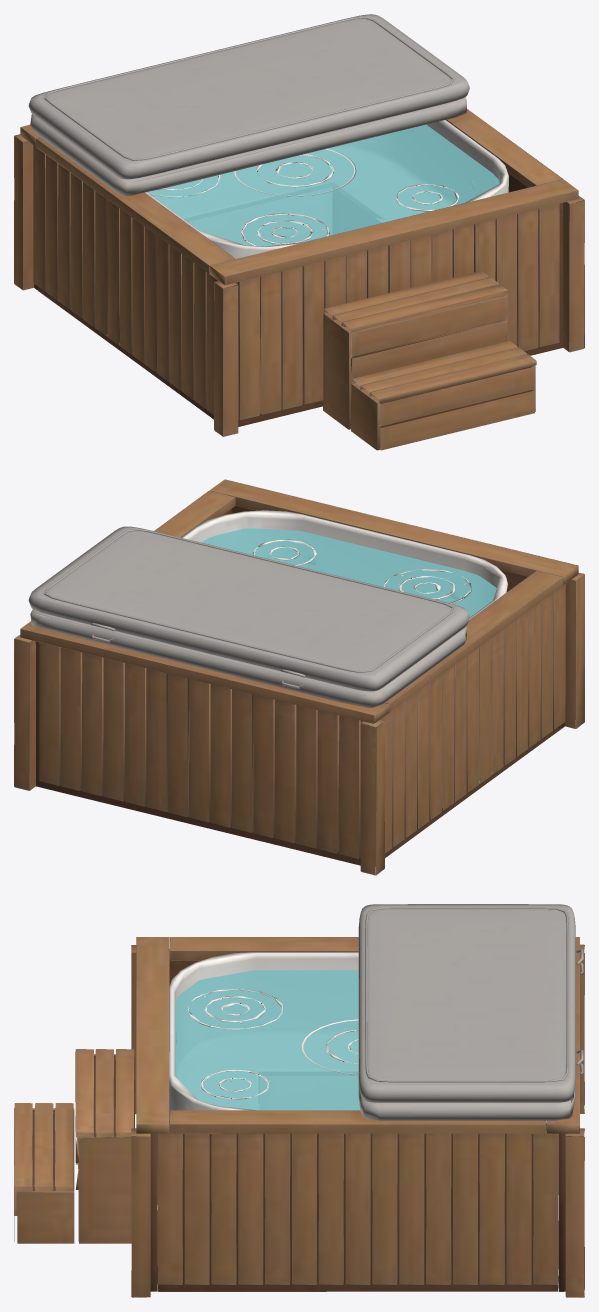
File: hot-tub.glb
3 renders of one model, top to bottom at view 1: azimuth 30°, elevation 25°; view 2: azimuth 150°, elevation 25°; view 3: azimuth 270°, elevation 25°, orthographic. The views are drawn at different scales.
Visible parts, largest first — view 1: hot-tub_body, hot-tub_cover, hot-tub_water, hot-tub_foam; view 2: hot-tub_body, hot-tub_cover, hot-tub_water, hot-tub_foam; view 3: hot-tub_body, hot-tub_cover, hot-tub_water, hot-tub_foam.
Boxes of the visible parts, x1,y1,x2,y2 form: hot-tub_body: [14, 97, 584, 450]; hot-tub_cover: [28, 14, 469, 179]; hot-tub_water: [147, 124, 499, 246]; hot-tub_foam: [148, 148, 459, 245]; hot-tub_body: [14, 479, 584, 875]; hot-tub_cover: [28, 526, 469, 691]; hot-tub_water: [201, 528, 496, 617]; hot-tub_foam: [252, 539, 471, 603]; hot-tub_body: [14, 937, 584, 1297]; hot-tub_cover: [358, 904, 583, 1102]; hot-tub_water: [175, 970, 360, 1110]; hot-tub_foam: [187, 989, 358, 1099].
Bounding box in the file's own units: 2.29 × 1.16 × 2.88.
Materials: 4 (2 with a texture image).
